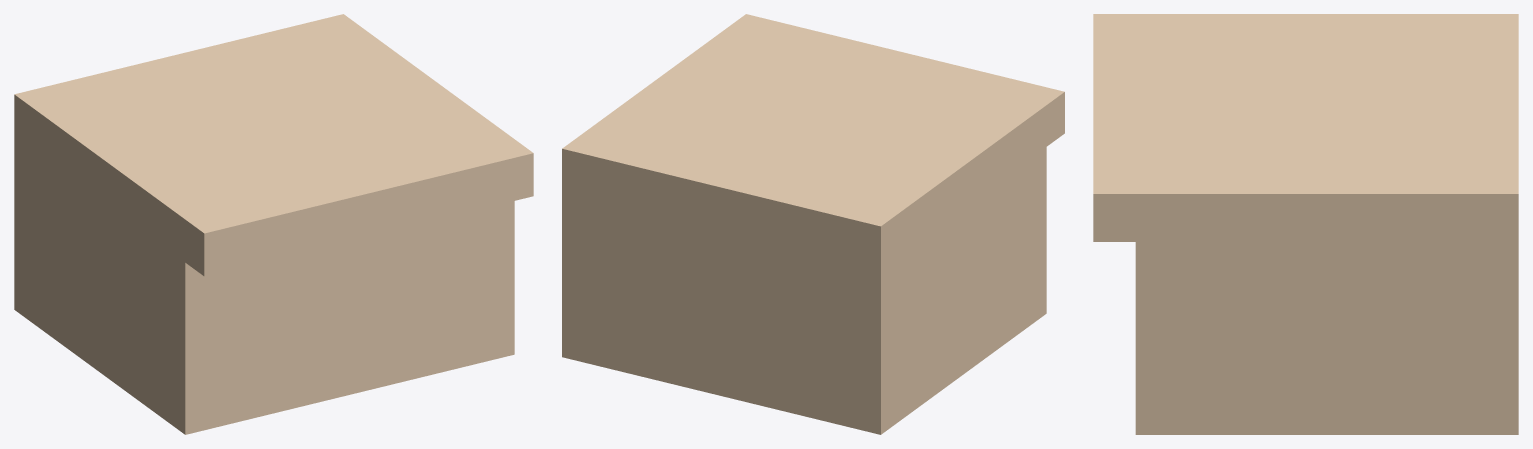
The model's file is building-window-large-middle.obj.
3 renders of one model, left to right at view 1: azimuth 30°, elevation 25°; view 2: azimuth 150°, elevation 25°; view 3: azimuth 270°, elevation 25°, orthographic. The views are drawn at different scales.
Size of the model in its own units: 1 by 0.625 by 1.
